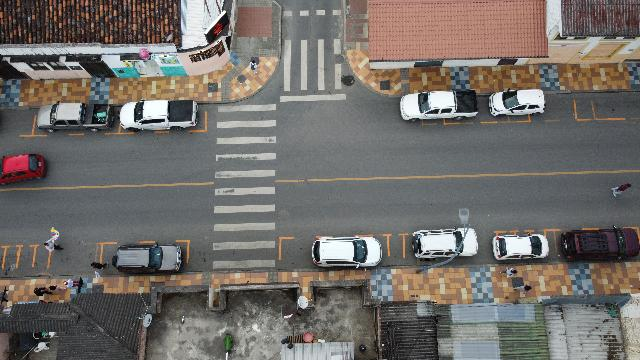Vehiculo: (561, 226, 639, 261), (399, 89, 478, 121), (120, 100, 198, 132), (36, 102, 114, 132), (312, 236, 382, 268), (412, 227, 478, 259), (112, 243, 182, 273), (488, 89, 546, 117), (492, 234, 550, 260), (0, 154, 46, 184)
